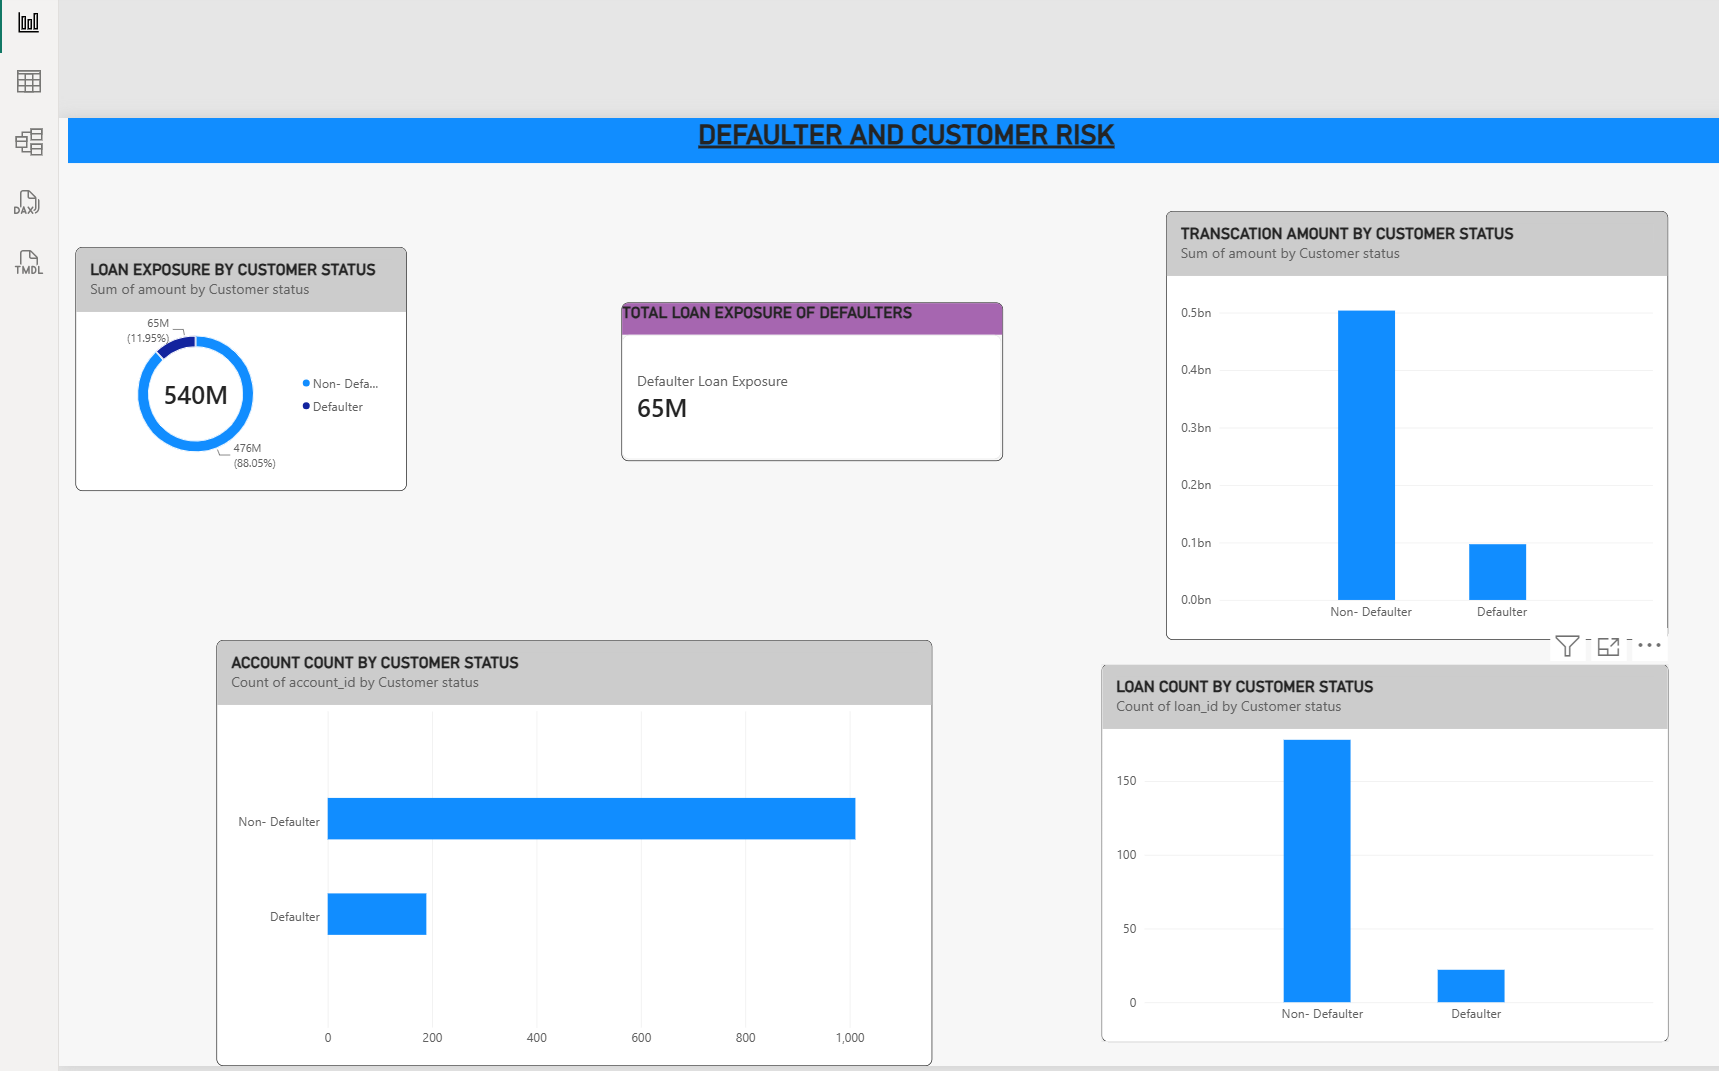

Layout of this report page (visuals, bound fields, positions):
{"tool":"powerbi","page":{"name":"Page 6","canvas":[1920,1080],"ordinal":5},"visuals":[{"type":"textbox","title":"DEFAULTER AND CUSTOMER RISK","box":[10.4,0,1910.2,121.7],"z":0},{"type":"cardVisual","title":"TOTAL LOAN EXPOSURE OF DEFAULTERS","fields":{"Data":["finance_db accounts.Defaulter Loan Exposure"]},"box":[640.8,210.2,434.5,180.8],"z":1},{"type":"donutChart","title":"LOAN EXPOSURE BY CUSTOMER STATUS","fields":{"Category":["finance_db customers.Customer status"],"Y":["Sum(finance_db f_m_loans.amount)"]},"box":[18.8,146.9,377.2,278.1],"z":2},{"type":"clusteredColumnChart","title":"TRANSCATION AMOUNT BY CUSTOMER STATUS","fields":{"Category":["finance_db customers.Customer status"],"Y":["Sum(finance_db transactions.amount)"]},"box":[1261,105.9,571.8,488.4],"z":3},{"type":"clusteredBarChart","title":"ACCOUNT COUNT BY CUSTOMER STATUS","fields":{"Category":["finance_db customers.Customer status"],"Y":["CountNonNull(finance_db accounts.account_id)"]},"box":[179.4,594.6,815.1,485.3],"z":4},{"type":"clusteredColumnChart","title":"LOAN COUNT BY CUSTOMER STATUS","fields":{"Category":["finance_db customers.Customer status"],"Y":["CountNonNull(finance_db f_m_loans.loan_id)"]},"box":[1187.6,622,645.9,430.6],"z":5}]}

Visuals, with their boxes on the page's 1920x1080 design canvas (x1, y1, x2, y2). These are canvas units, not pixel positions in the 1719x1071 screenshot, which may show the page scaled, cropped or inside an application window:
"DEFAULTER AND CUSTOMER RISK" textbox: left=10, top=0, right=1921, bottom=122
"TOTAL LOAN EXPOSURE OF DEFAULTERS" cardVisual: left=641, top=210, right=1075, bottom=391
"LOAN EXPOSURE BY CUSTOMER STATUS" donutChart: left=19, top=147, right=396, bottom=425
"TRANSCATION AMOUNT BY CUSTOMER STATUS" clusteredColumnChart: left=1261, top=106, right=1833, bottom=594
"ACCOUNT COUNT BY CUSTOMER STATUS" clusteredBarChart: left=179, top=595, right=994, bottom=1080
"LOAN COUNT BY CUSTOMER STATUS" clusteredColumnChart: left=1188, top=622, right=1834, bottom=1053
